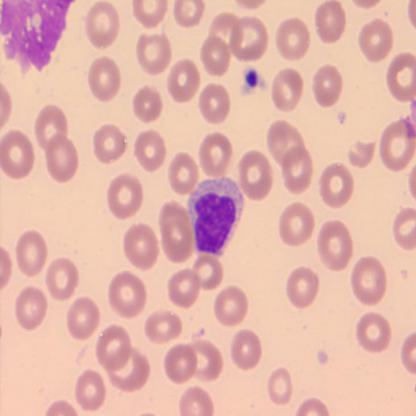Metamyelocyte: (188, 175, 244, 258)
